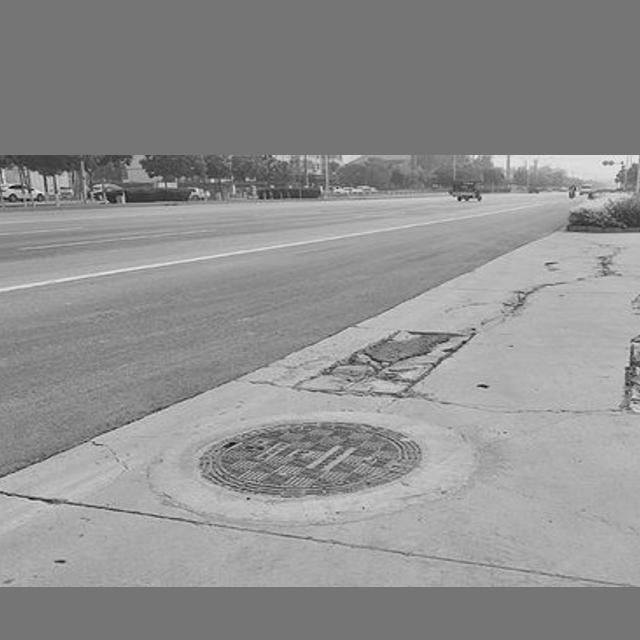good: (137, 407, 475, 525)
